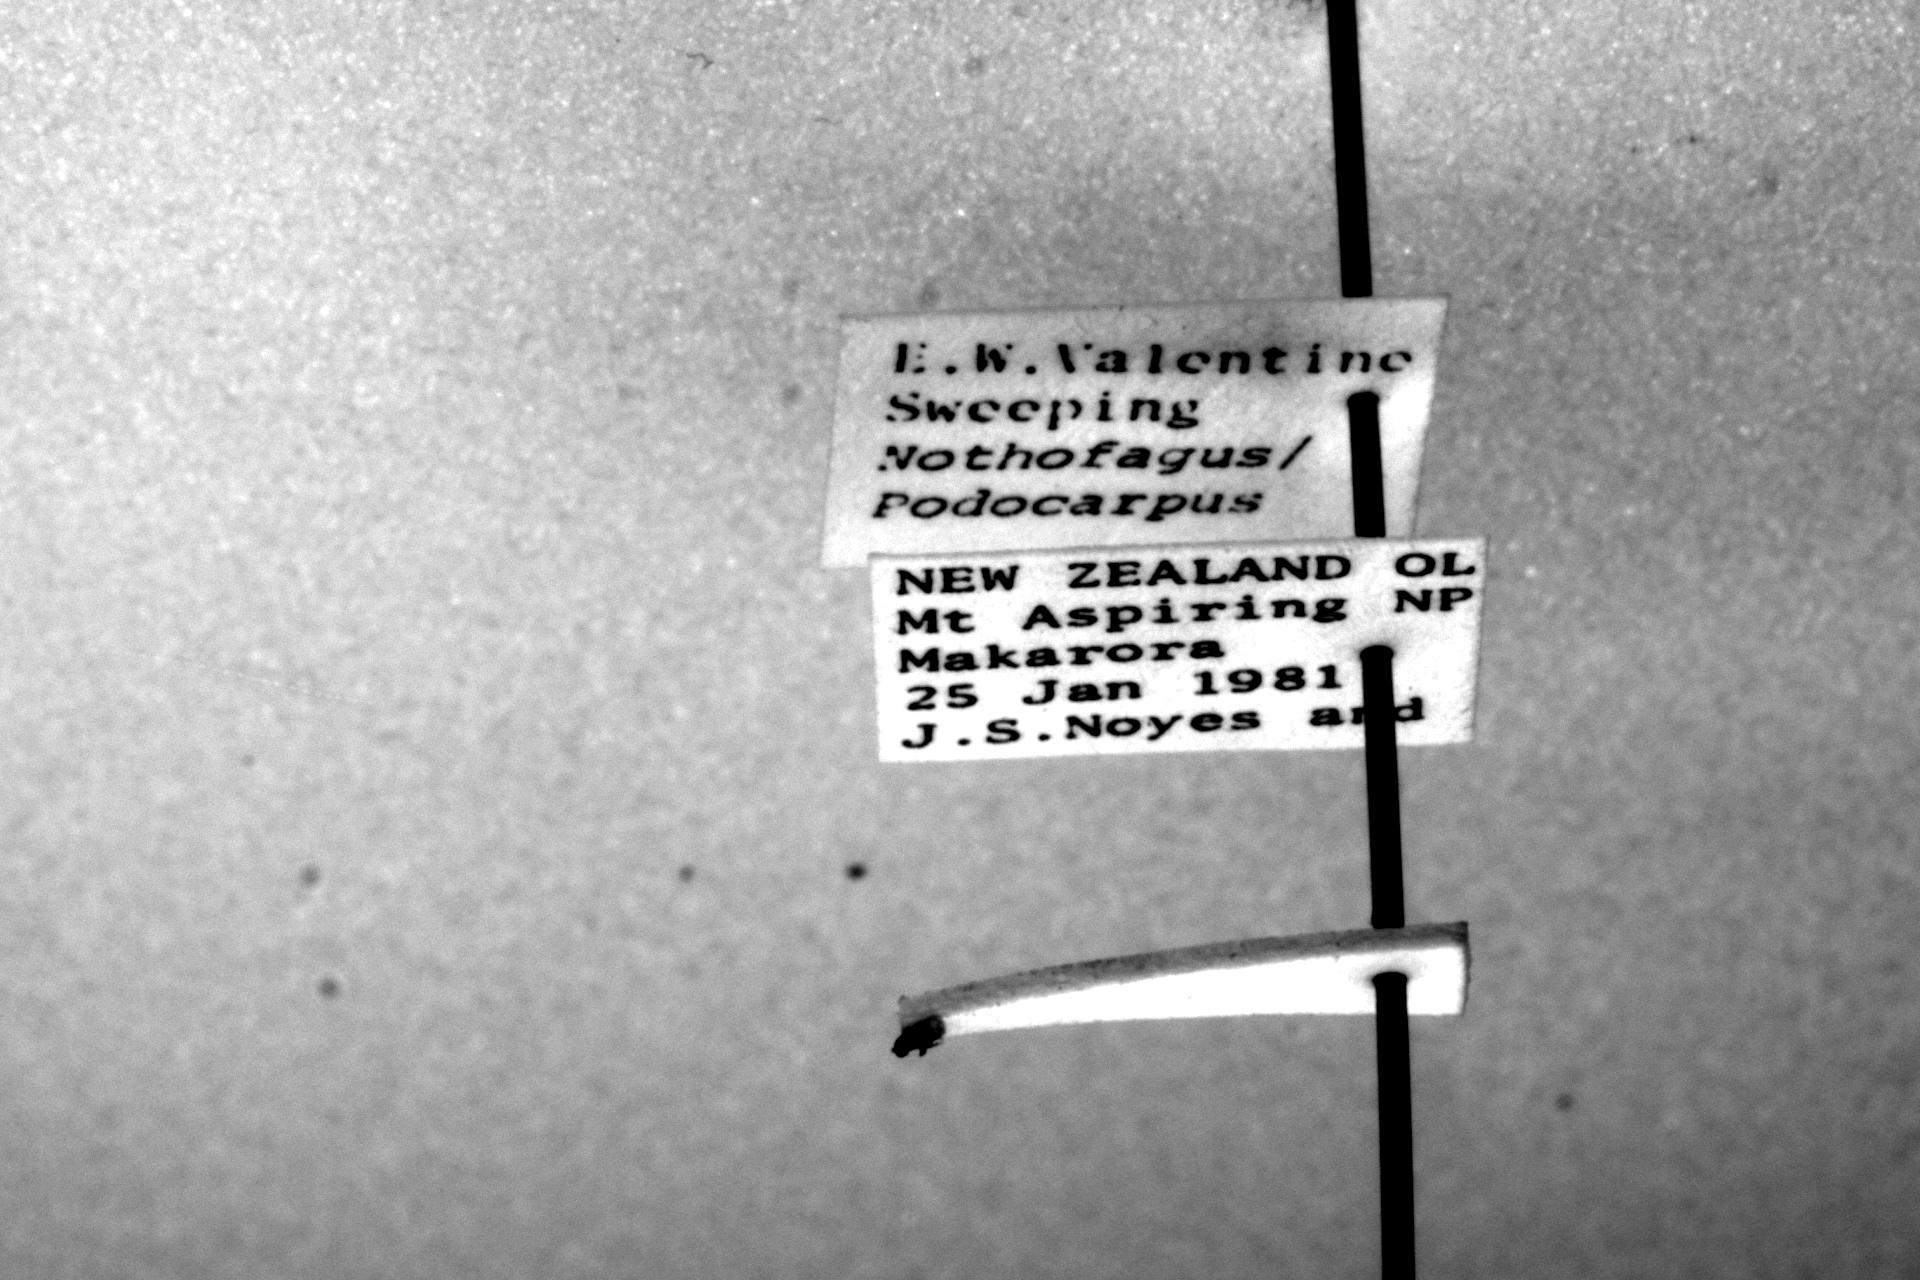typed_label: (821, 296, 1447, 566), (874, 540, 1486, 761)
